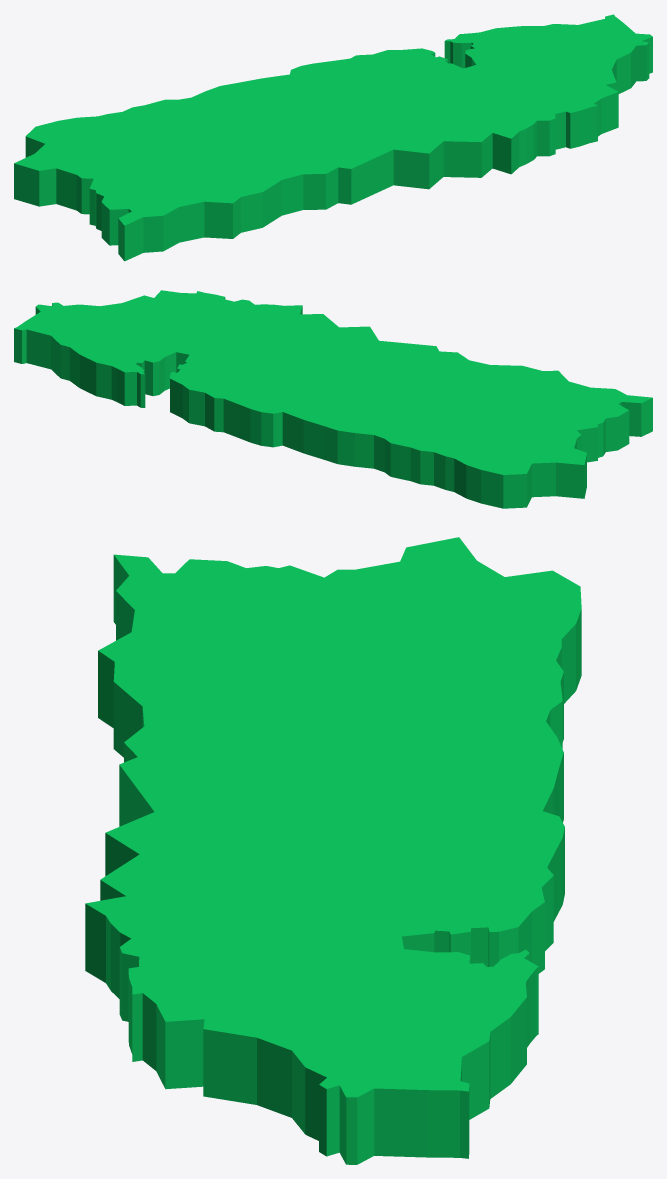
3 views of the same model, one above another, from view 1: azimuth 30°, elevation 25°; view 2: azimuth 150°, elevation 25°; view 3: azimuth 270°, elevation 25° (orthographic). The views are drawn at different scales.
Visible parts, largest first — view 1: Plane; view 2: Plane; view 3: Plane.
Part boxes in pixels (x1,y1,x2,y2): Plane: [14, 14, 652, 261]; Plane: [14, 290, 652, 508]; Plane: [85, 537, 581, 1164].
Size of the model in its own units: 542 by 30.42 by 203.
